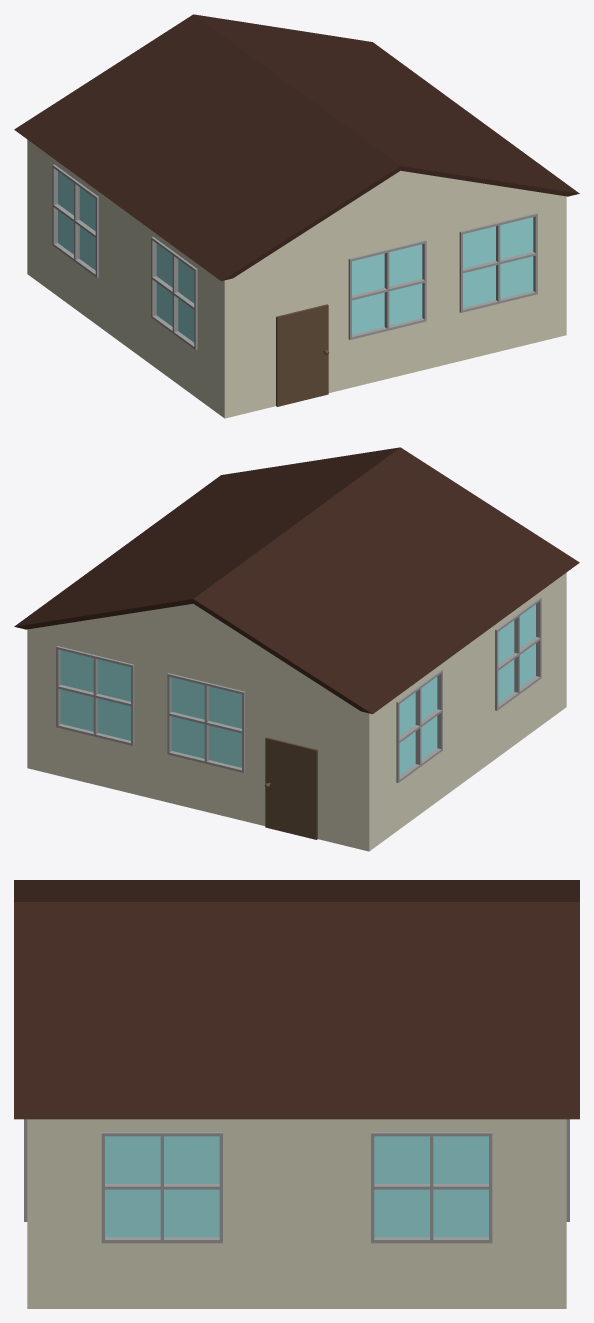
Rendered from house1.fbx.
3 renders of one model, top to bottom at view 1: azimuth 30°, elevation 25°; view 2: azimuth 150°, elevation 25°; view 3: azimuth 270°, elevation 25°, orthographic. The views are drawn at different scales.
Parts seen in each view (by area): view 1: house, door1, window1, window2, window5, window6; view 2: house, door2, window3, window4, window6, window5; view 3: house, window7, window8.
Boxes of the visible parts, box(x1,y1,x2,y2) form: house: box(14, 14, 579, 418); door1: box(276, 304, 329, 406); window1: box(348, 240, 426, 339); window2: box(459, 213, 537, 312); window5: box(151, 237, 197, 349); window6: box(52, 164, 98, 277); house: box(14, 447, 579, 851); door2: box(264, 737, 317, 839); window3: box(167, 673, 245, 772); window4: box(56, 646, 134, 745); window6: box(396, 670, 442, 782); window5: box(495, 597, 541, 710); house: box(14, 880, 579, 1308); window7: box(371, 1132, 492, 1243); window8: box(101, 1132, 222, 1243).
Size of the model in its own units: 10.5 by 6 by 10.5.
Materials: 3 (1 with a texture image).
